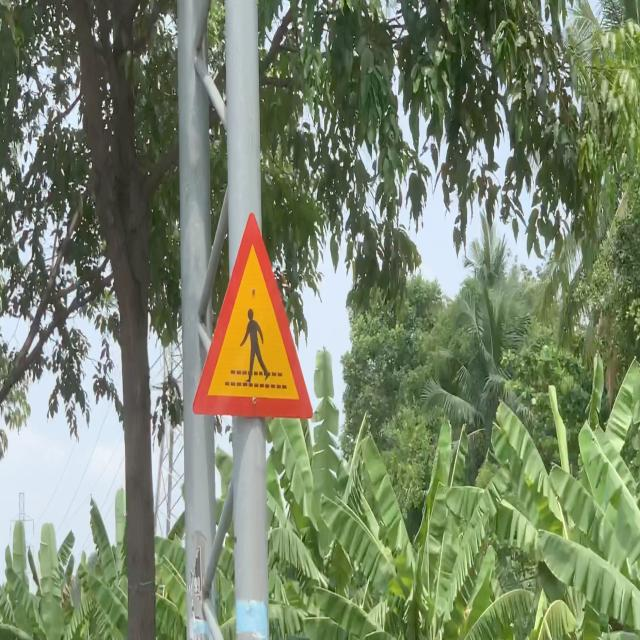Nguoi di bo cat ngang: (187, 200, 320, 434)
